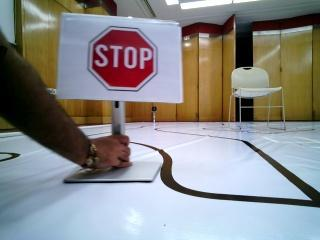stop: (73, 23, 173, 98)
